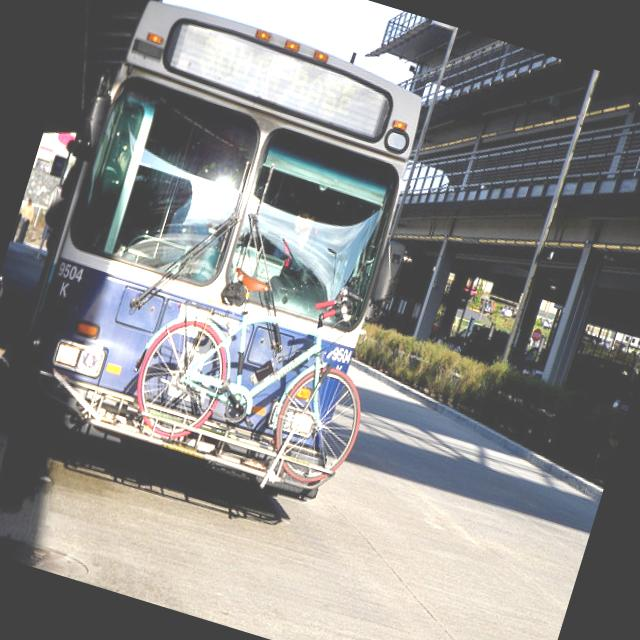Vehicle: (10, 0, 453, 498)
